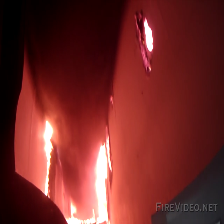fire_h: (95, 129, 113, 223), (43, 120, 53, 198)
fire_l: (144, 19, 154, 51), (65, 217, 94, 224), (70, 202, 77, 217), (110, 94, 113, 105)
